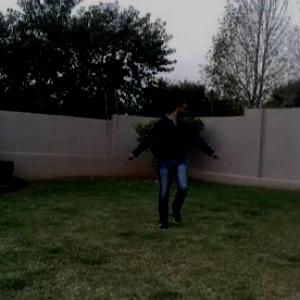land: (125, 80, 236, 232)
